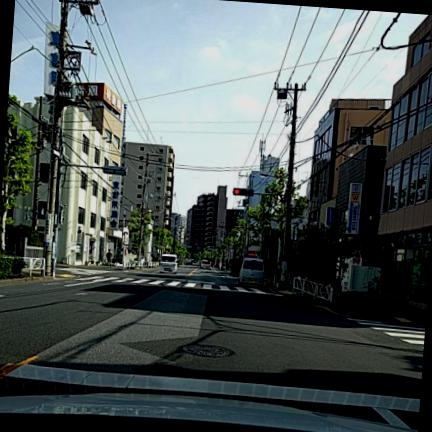Road: (0, 267, 424, 396)
